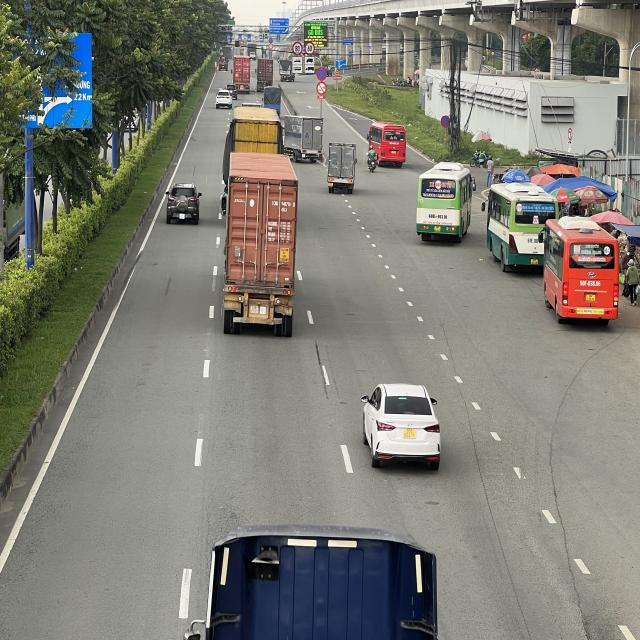car: (360, 382, 442, 470), (165, 185, 203, 225), (216, 90, 233, 109)
coach: (543, 217, 624, 326), (484, 182, 563, 274), (416, 164, 475, 243), (367, 122, 407, 170)
container: (223, 152, 300, 335), (225, 101, 277, 152), (230, 56, 252, 92), (256, 59, 272, 90)
truck: (282, 116, 325, 164), (325, 139, 357, 197), (262, 87, 282, 110), (280, 59, 293, 80)
